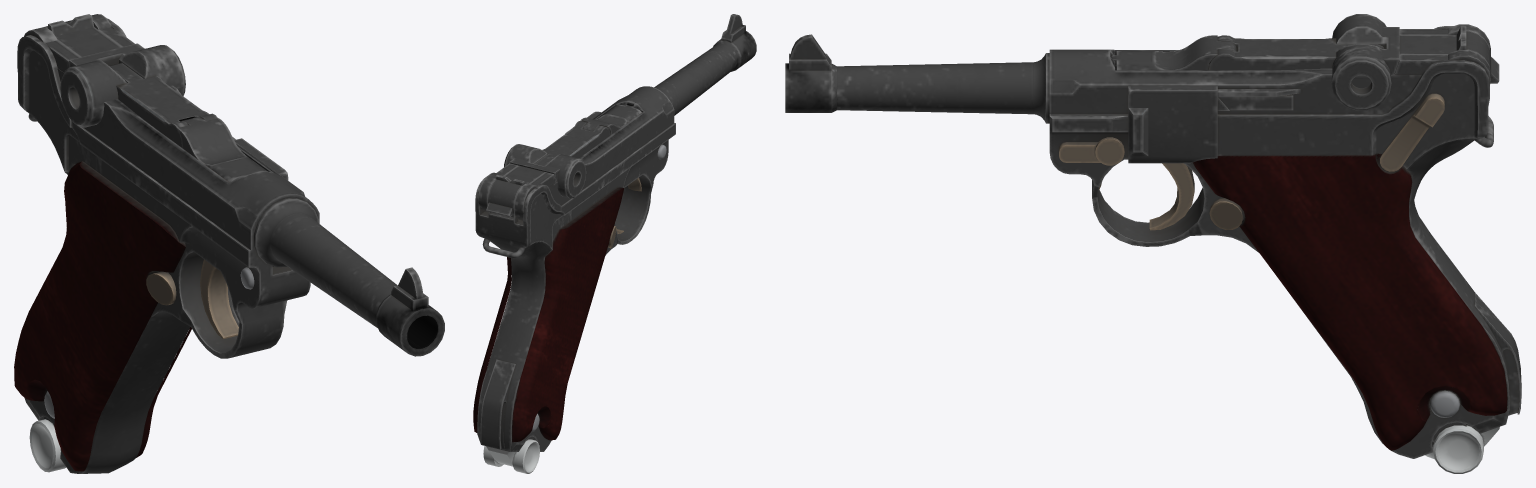
Rendered from luger_runtime.glb.
The picture shows the model from 3 angles, left to right: view 1: azimuth 30°, elevation 25°; view 2: azimuth 150°, elevation 25°; view 3: azimuth 270°, elevation 25°; orthographic projection. The views are drawn at different scales.
Visible parts, largest first — view 1: Circle, Cylinder.012, Cylinder.010, Cube.007, Circle.003, Circle.001; view 2: Circle, Cylinder.012, Cylinder.010, Circle.001, Cube.007; view 3: Circle, Cylinder.012, Cylinder.010, Cube.007, Circle.001, Circle.003.
Boxes of the visible parts, left/top/right/bottom form: Circle: left=14, top=14, right=444, bottom=473; Cylinder.012: left=43, top=14, right=185, bottom=127; Cylinder.010: left=109, top=63, right=217, bottom=147; Cube.007: left=177, top=117, right=267, bottom=182; Circle.003: left=200, top=259, right=238, bottom=339; Circle.001: left=29, top=417, right=66, bottom=472; Circle: left=473, top=14, right=756, bottom=451; Cylinder.012: left=486, top=144, right=586, bottom=217; Cylinder.010: left=535, top=120, right=610, bottom=166; Circle.001: left=483, top=436, right=539, bottom=473; Cube.007: left=581, top=104, right=641, bottom=135; Circle: left=785, top=24, right=1521, bottom=458; Cylinder.012: left=1331, top=14, right=1499, bottom=110; Cylinder.010: left=1209, top=35, right=1384, bottom=70; Cube.007: left=1111, top=35, right=1236, bottom=70; Circle.001: left=1425, top=422, right=1499, bottom=473; Circle.003: left=1099, top=163, right=1194, bottom=230.
Size of the model in its own units: 0.0325 by 0.14 by 0.22.
1 material, 1 textured.
